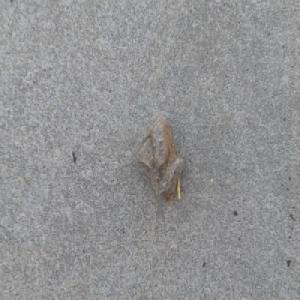Rock: (131, 111, 185, 204)
